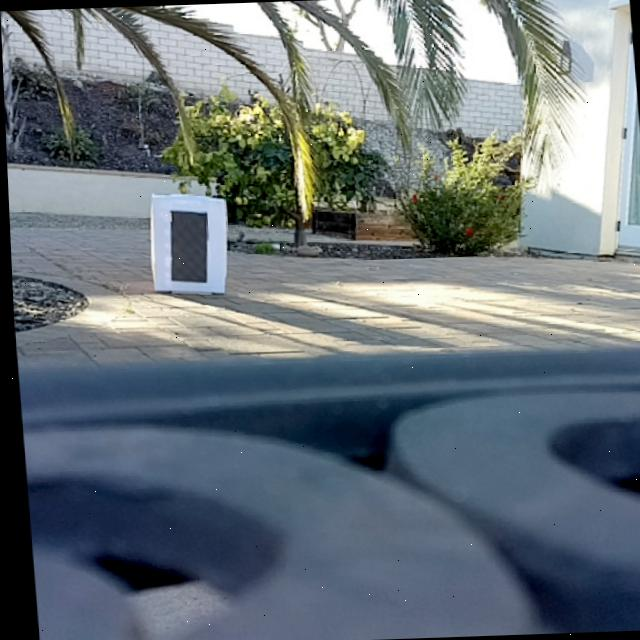led: (163, 207, 210, 286)
